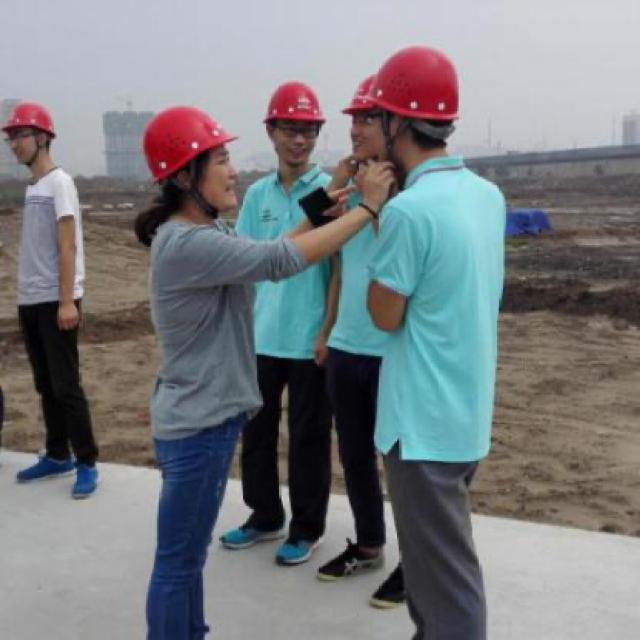helmet: (371, 45, 462, 166), (140, 105, 242, 211), (262, 80, 331, 168), (343, 66, 388, 165), (5, 97, 57, 165)
